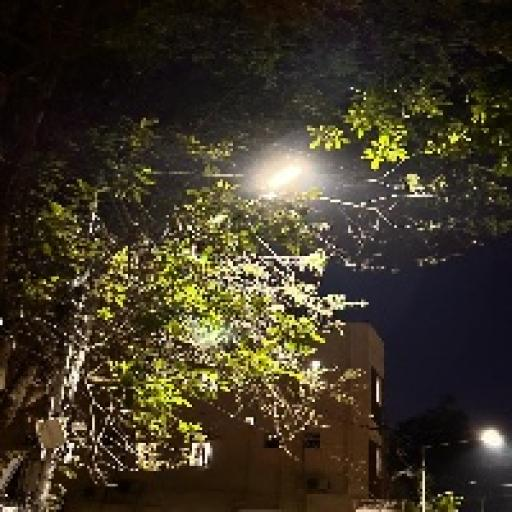Working: (254, 151, 313, 213), (476, 425, 507, 455)
